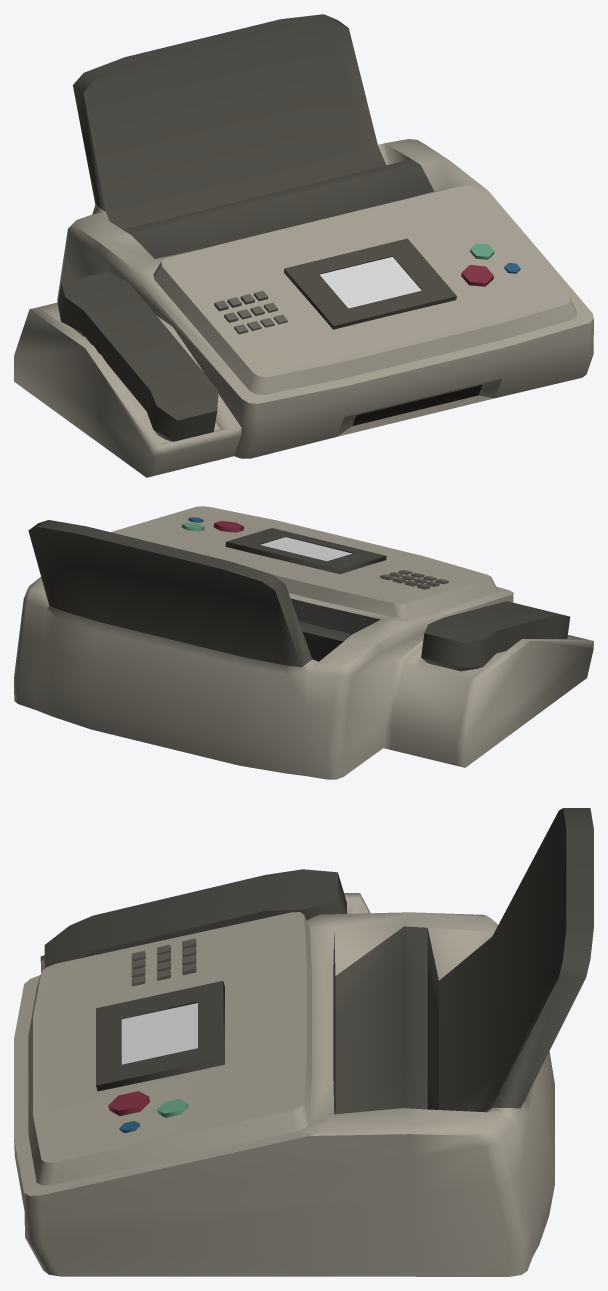
Rendered from Fax-Machine_01.fbx.
The picture shows the model from 3 angles, top to bottom: view 1: azimuth 30°, elevation 25°; view 2: azimuth 150°, elevation 25°; view 3: azimuth 270°, elevation 25°; orthographic projection. The views are drawn at different scales.
Visible parts, largest first — view 1: Fax_Machine, Fax_Screen; view 2: Fax_Machine, Fax_Screen; view 3: Fax_Machine, Fax_Screen.
Part boxes in pixels (x1,y1,x2,y2): Fax_Machine: (14, 14, 593, 477); Fax_Screen: (320, 257, 421, 308); Fax_Machine: (14, 506, 593, 779); Fax_Screen: (260, 537, 352, 561); Fax_Machine: (14, 808, 593, 1276); Fax_Screen: (121, 1003, 197, 1064).
Bounding box in the file's own units: 0.5002 × 0.2429 × 0.4432.
